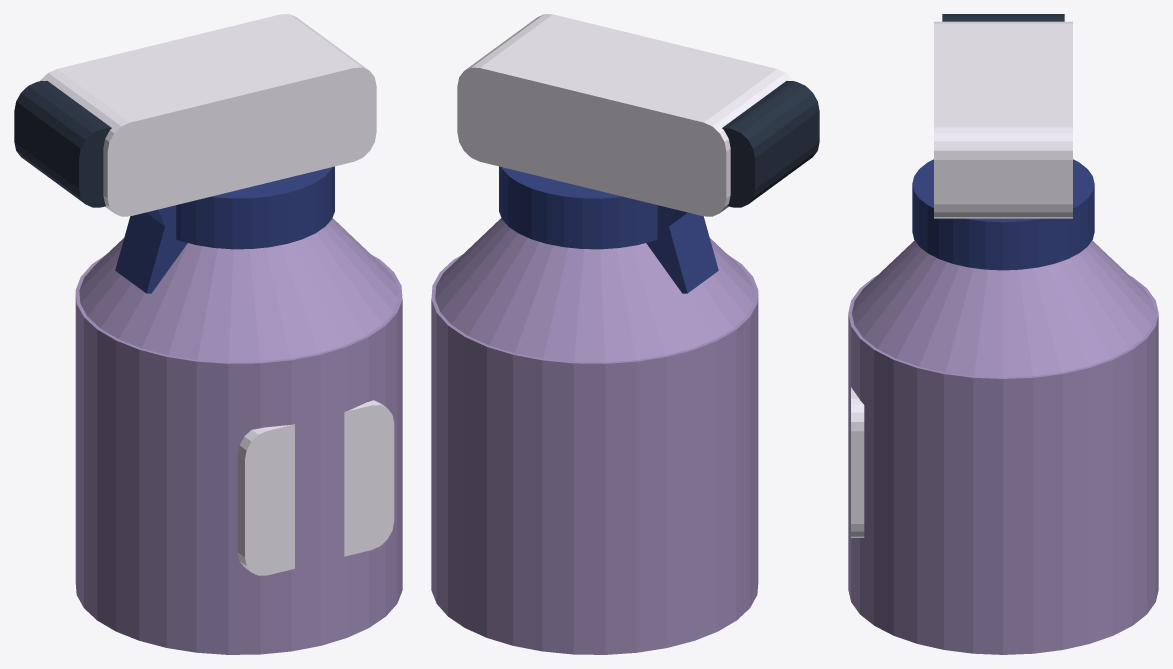
File: lensbottle.glb
3 renders of one model, left to right at view 1: azimuth 30°, elevation 25°; view 2: azimuth 150°, elevation 25°; view 3: azimuth 270°, elevation 25°, orthographic. The views are drawn at different scales.
Visible parts, largest first — view 1: bottle, sprayer, shoulder, label, collar, nozzle, trigger; view 2: bottle, sprayer, shoulder, collar, nozzle, trigger; view 3: bottle, shoulder, sprayer, collar, label, nozzle.
Part boxes in pixels (left/top/right/bottom): bottle: left=75, top=255, right=402, bottom=654; sprayer: left=40, top=14, right=376, bottom=216; shoulder: left=79, top=218, right=398, bottom=362; label: left=237, top=400, right=394, bottom=575; collar: left=176, top=166, right=334, bottom=249; nozzle: left=14, top=81, right=111, bottom=207; trigger: left=115, top=205, right=187, bottom=293; bottle: left=431, top=255, right=758, bottom=654; sprayer: left=457, top=14, right=793, bottom=216; shoulder: left=435, top=218, right=754, bottom=362; collar: left=499, top=166, right=657, bottom=249; nozzle: left=722, top=81, right=819, bottom=207; trigger: left=646, top=205, right=718, bottom=293; bottle: left=848, top=276, right=1158, bottom=654; shoulder: left=851, top=240, right=1155, bottom=377; sprayer: left=934, top=21, right=1072, bottom=218; collar: left=912, top=159, right=1094, bottom=270; label: left=851, top=387, right=864, bottom=537; nozzle: left=942, top=14, right=1064, bottom=21.
Bounding box in the file's own units: 0.895 × 1.34 × 0.76.
